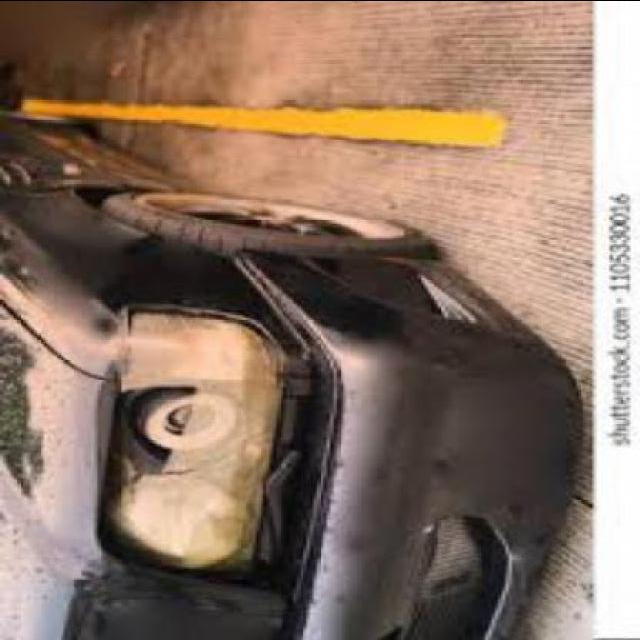Headlight-Damage: (102, 289, 304, 581)
